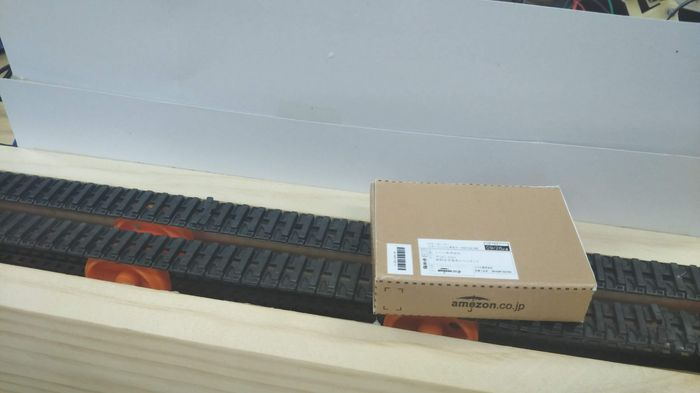box2: (362, 174, 600, 328)
